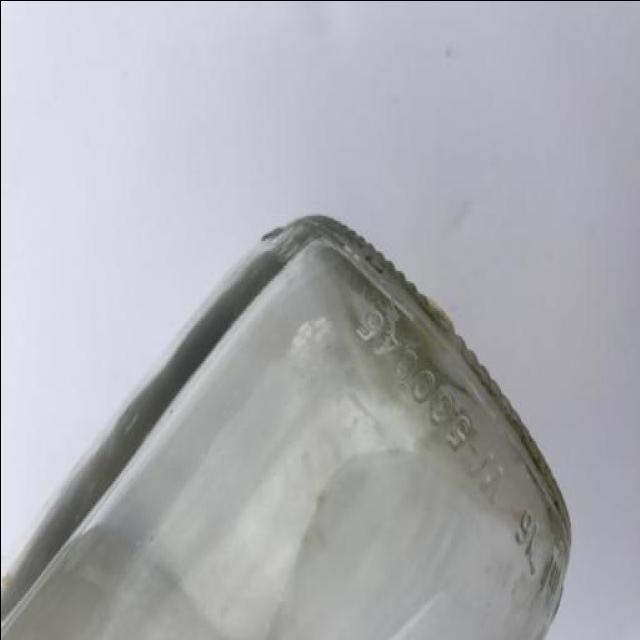glass: (11, 208, 572, 640)
